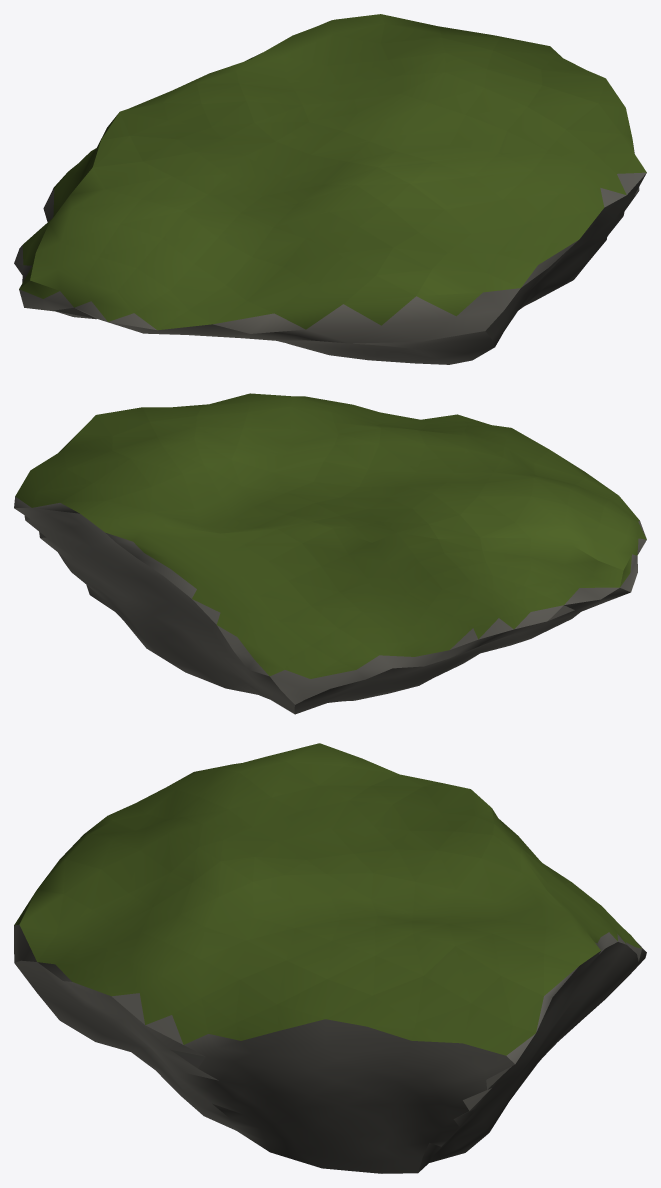
Rendered from rock_c.glb.
3 views of the same model, one above another, from view 1: azimuth 30°, elevation 25°; view 2: azimuth 150°, elevation 25°; view 3: azimuth 270°, elevation 25° (orthographic). The views are drawn at different scales.
Visible parts, largest first — view 1: LOD0; view 2: LOD0; view 3: LOD0.
Boxes of the visible parts, box(x1,y1,x2,y2) form: LOD0: box(14, 14, 646, 364); LOD0: box(14, 393, 646, 714); LOD0: box(14, 743, 646, 1173).
Size of what is drawn, in the model's own units: 2.63 by 0.9143 by 2.27.
